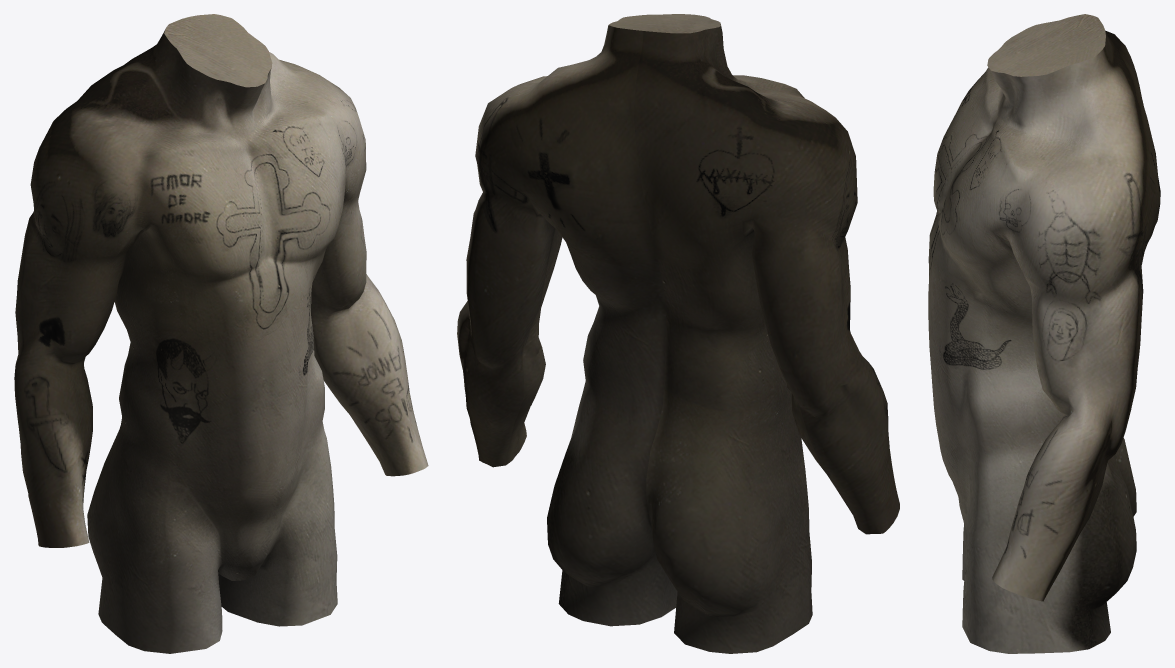
File: tatuajes.FBX
The picture shows the model from 3 angles, left to right: view 1: azimuth 30°, elevation 25°; view 2: azimuth 150°, elevation 25°; view 3: azimuth 270°, elevation 25°; orthographic projection. The views are drawn at different scales.
Visible parts, largest first — view 1: Tatuaje; view 2: Tatuaje; view 3: Tatuaje.
Boxes of the visible parts, x1=… form: Tatuaje: x1=14, y1=14, x2=428, y2=653; Tatuaje: x1=457, y1=14, x2=899, y2=653; Tatuaje: x1=928, y1=14, x2=1160, y2=653.
Size of the model in its own units: 128 by 180 by 65.61.
